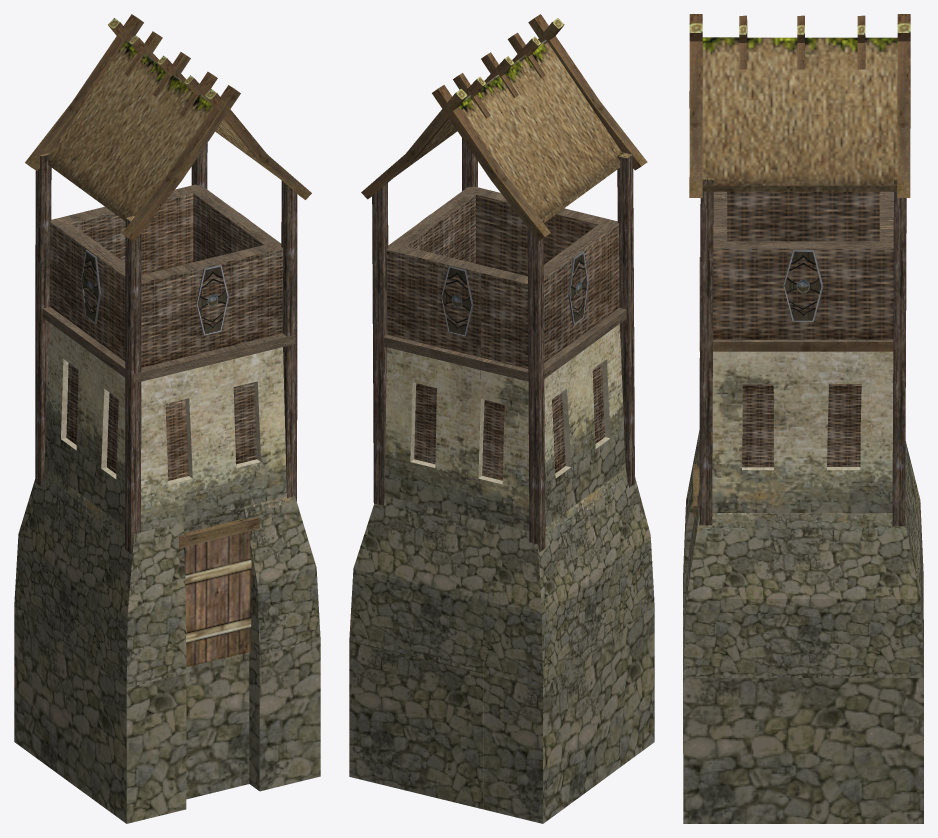
Rendered from tower_stone_3.dae.
The picture shows the model from 3 angles, left to right: view 1: azimuth 30°, elevation 25°; view 2: azimuth 150°, elevation 25°; view 3: azimuth 270°, elevation 25°; orthographic projection. The views are drawn at different scales.
Parts seen in each view (by area): view 1: stone_tower; view 2: stone_tower; view 3: stone_tower.
Part boxes in pixels (x1=…): stone_tower: x1=14, y1=14, x2=320, y2=823; stone_tower: x1=349, y1=14, x2=654, y2=823; stone_tower: x1=683, y1=14, x2=923, y2=823.
Bounding box in the file's own units: 7.35 × 7.35 × 25.49.
